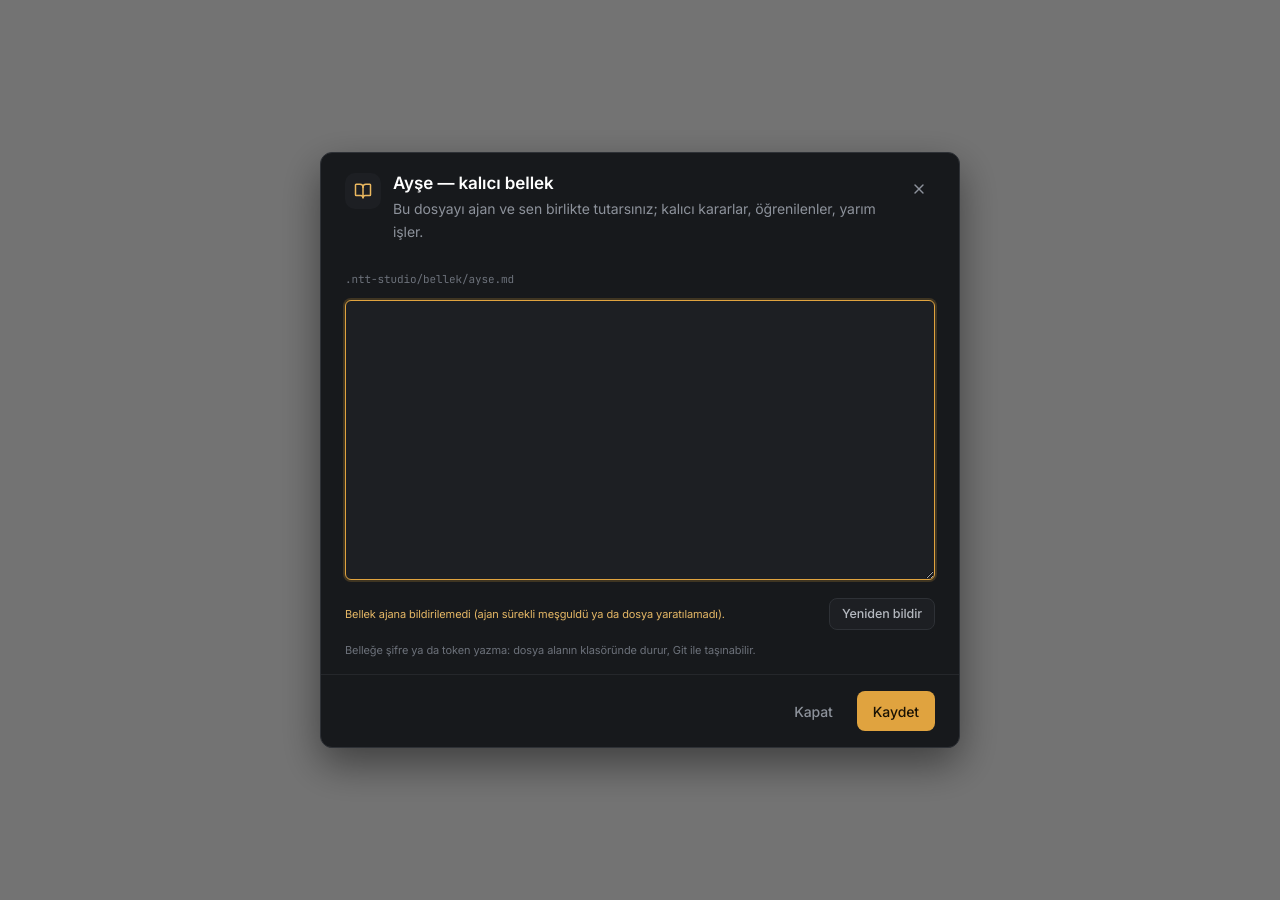
Test: MemoryDialog › Yeniden yükle eski 'Yeniden bildirilemedi' satırını temizliyor
Click the button "Yeniden bildir".
click(882, 614)  # box [829,598,935,630]
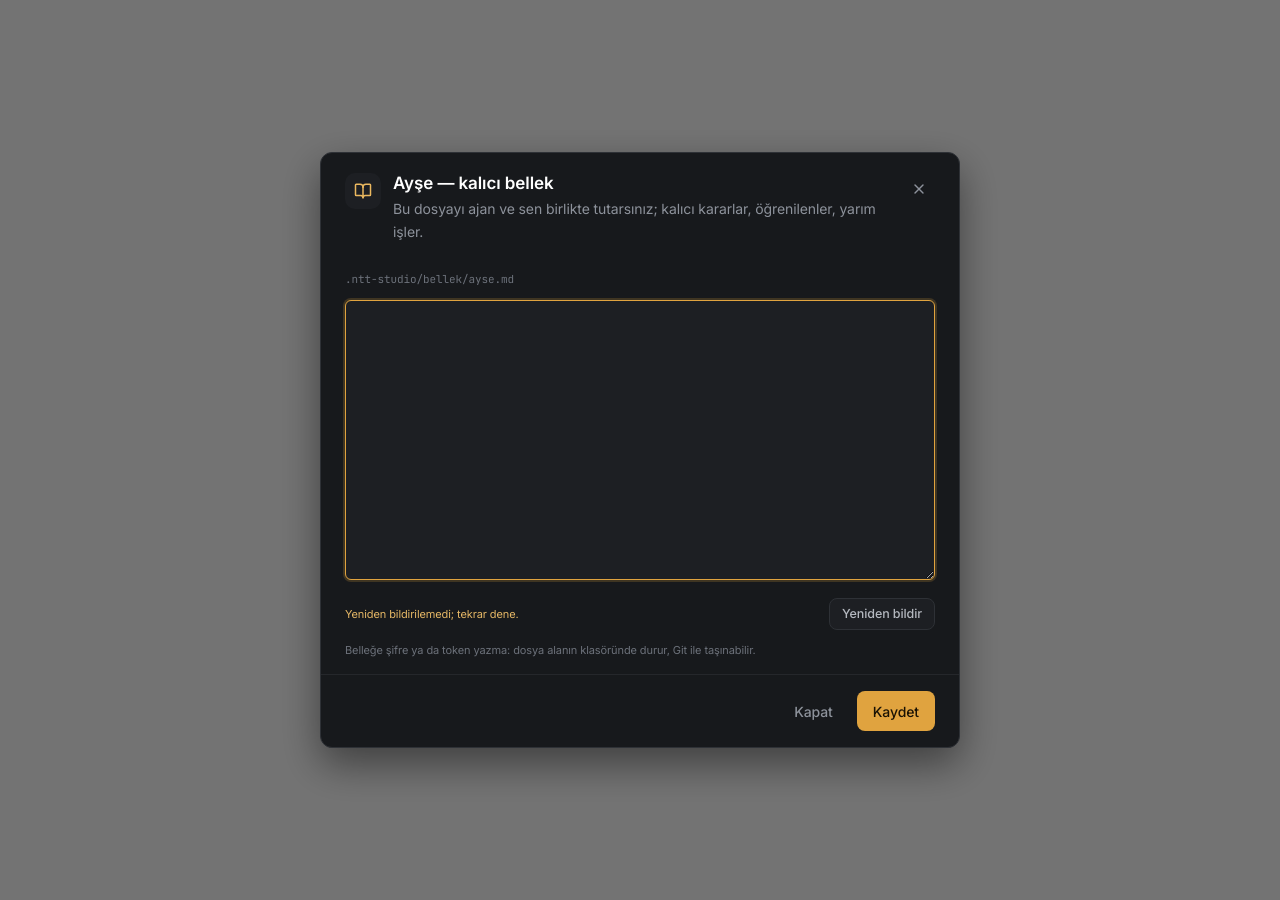
Result: the text "Yeniden bildirilemedi; tekrar dene." is shown at [345,607,519,621]
Type "yeni" into the text box.
click(640, 440); type("yeni")  # box [345,300,935,580]
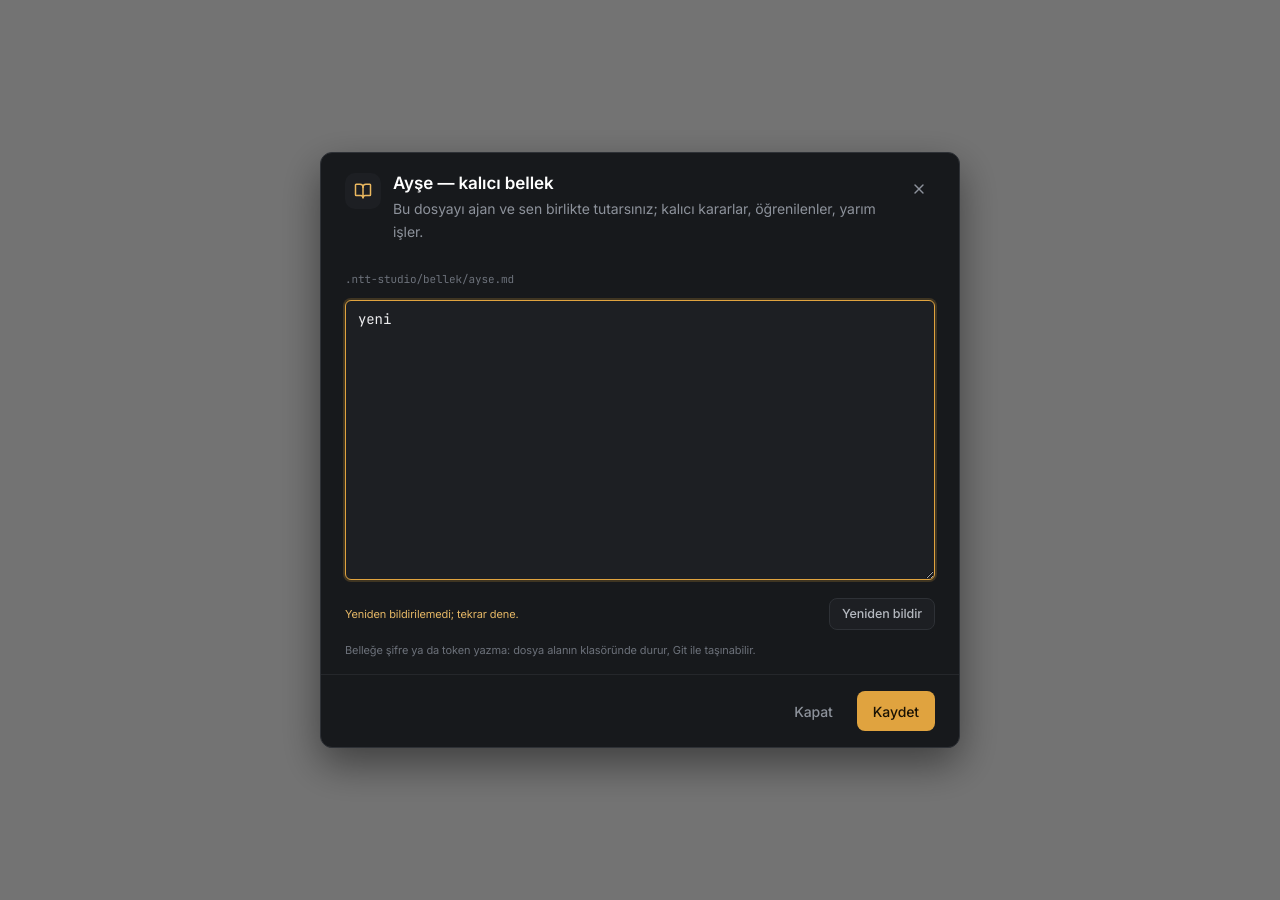
Click the button "Kaydet".
click(896, 711)  # box [857,691,935,731]
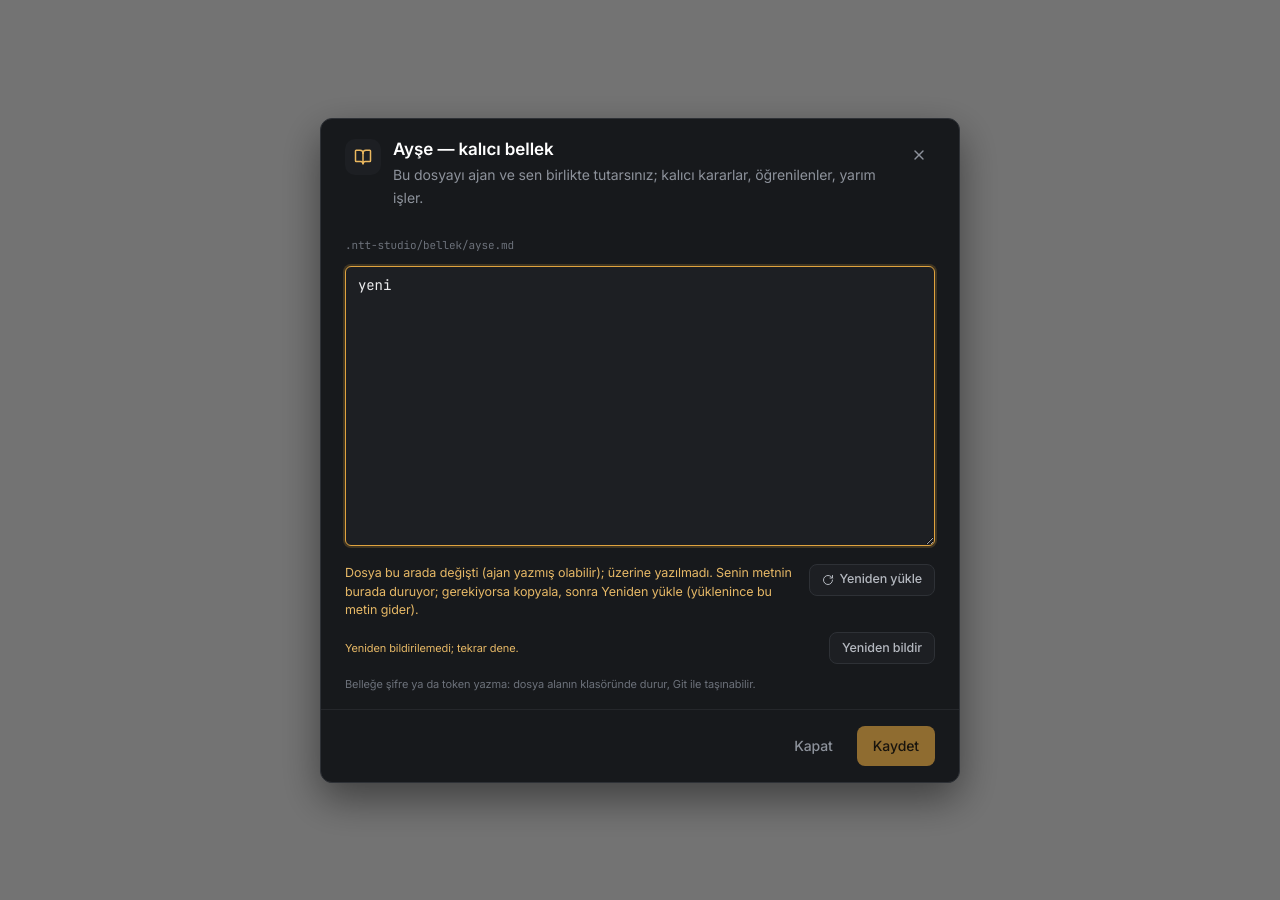
Click the button "Yeniden yükle".
click(872, 580)  # box [808,564,935,596]
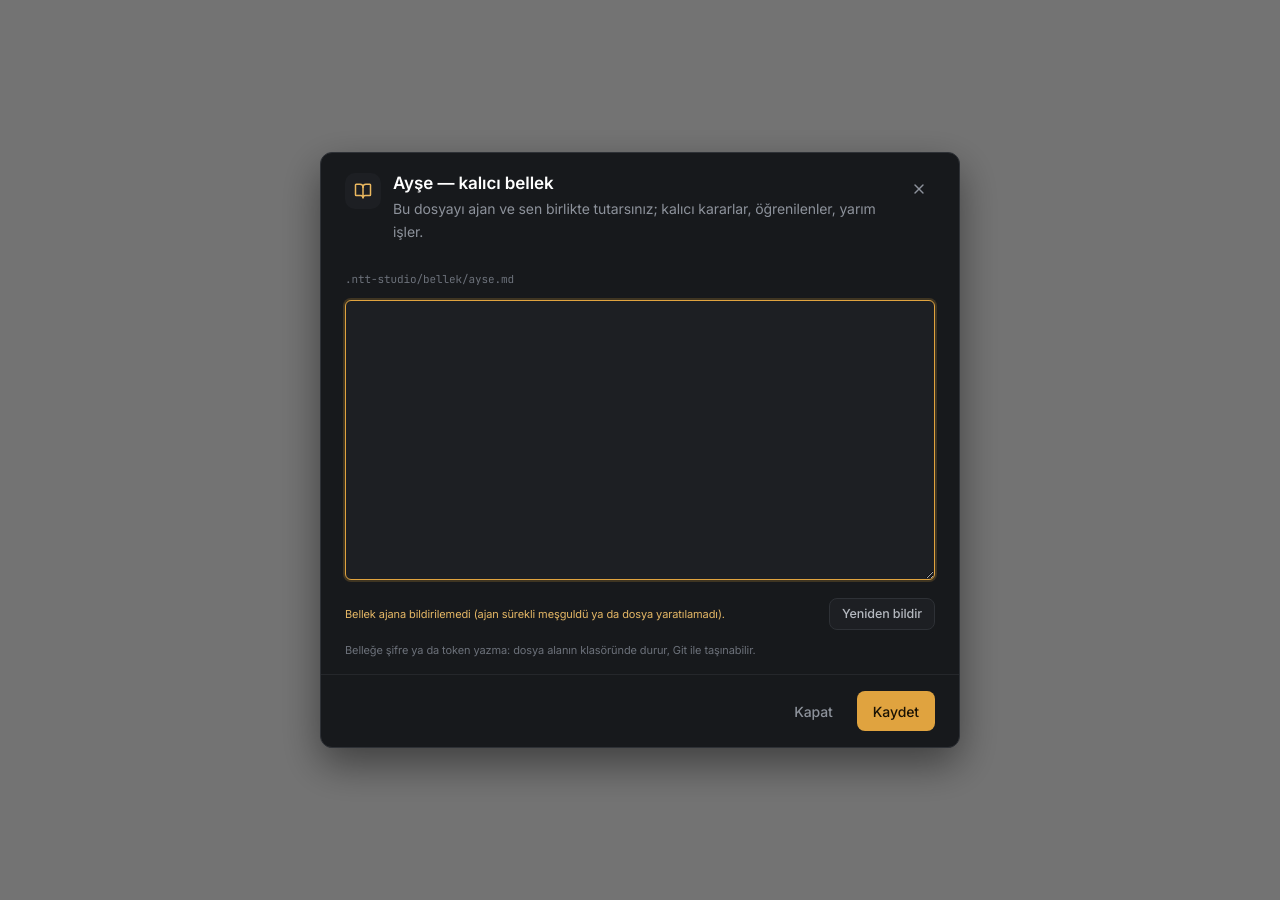
Result: the text "Bellek ajana bildirilemedi" is shown at [345,607,725,621]
Result: the text "Yeniden bildirilemedi" is gone
